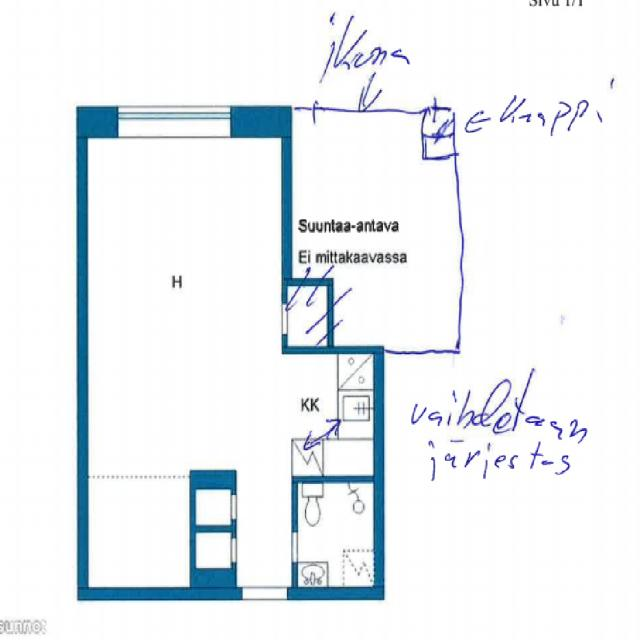door: (283, 302, 323, 339), (264, 526, 298, 562)
